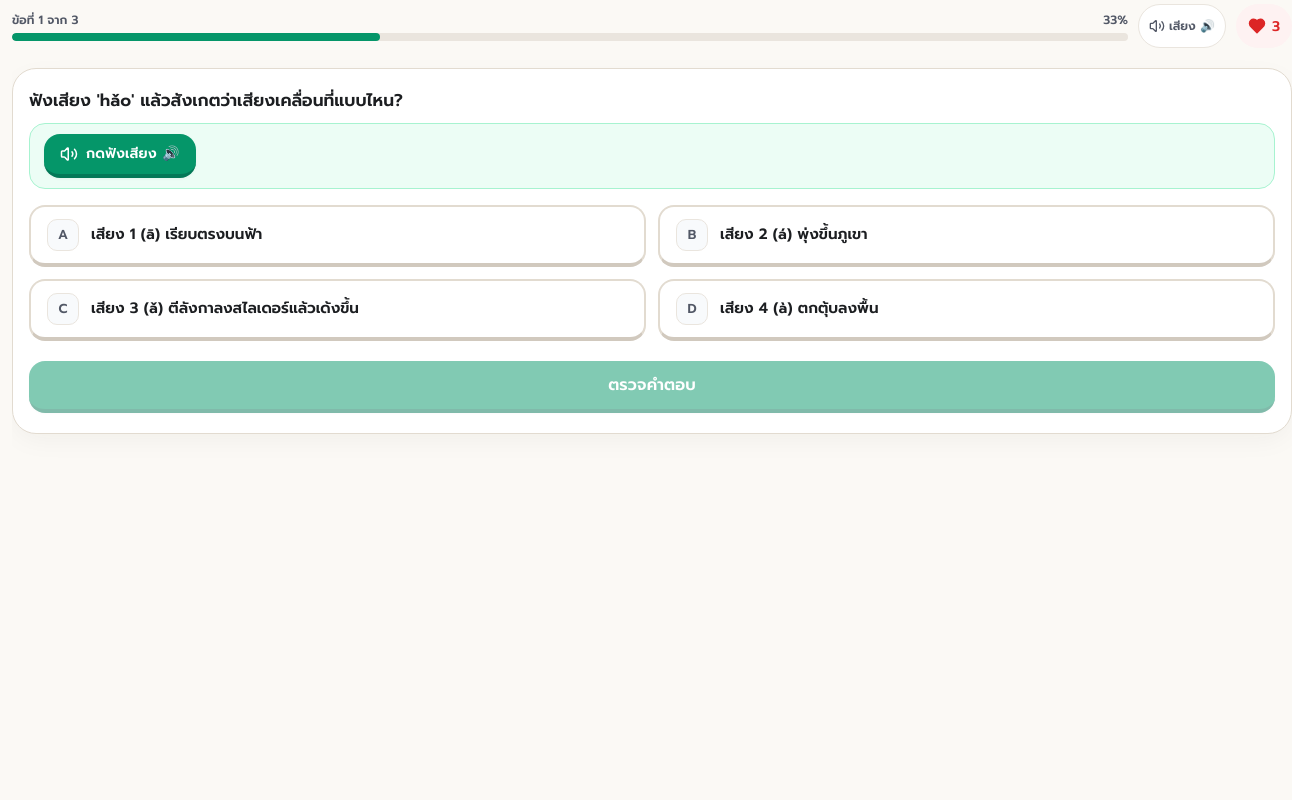
Test case: QuizContainer Component (Phase 2 Slice 2.5) › Multiple Choice Interaction › handles incorrect answer submission with heart deduction and feedback
The width and height of the screenshot is (1292, 800).
Click the radio button labelled "A เสียง 1 (ā) เรียบตรงบนฟ้า" at (63, 235), box [29,205,646,267]
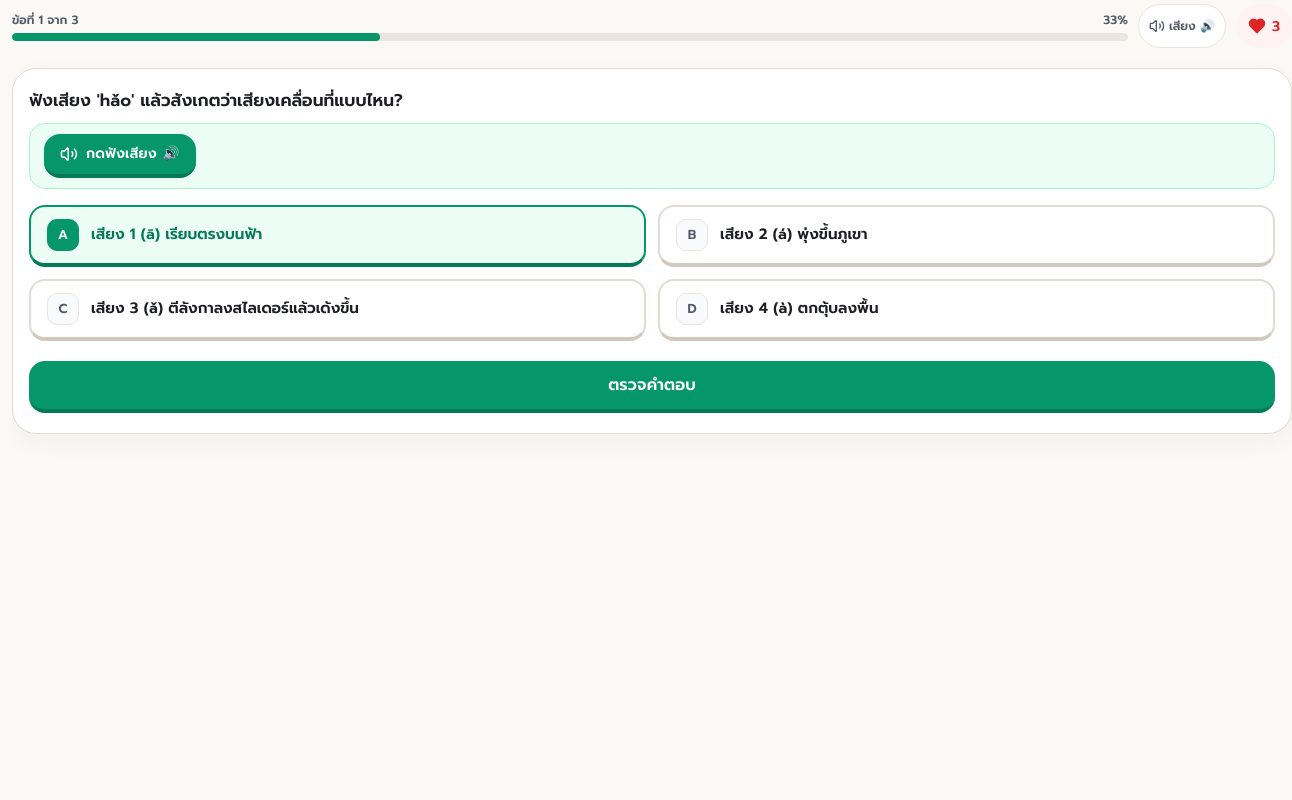
Click the button with aria-label "ตรวจคำตอบ" at (652, 387), box [29,361,1275,413]
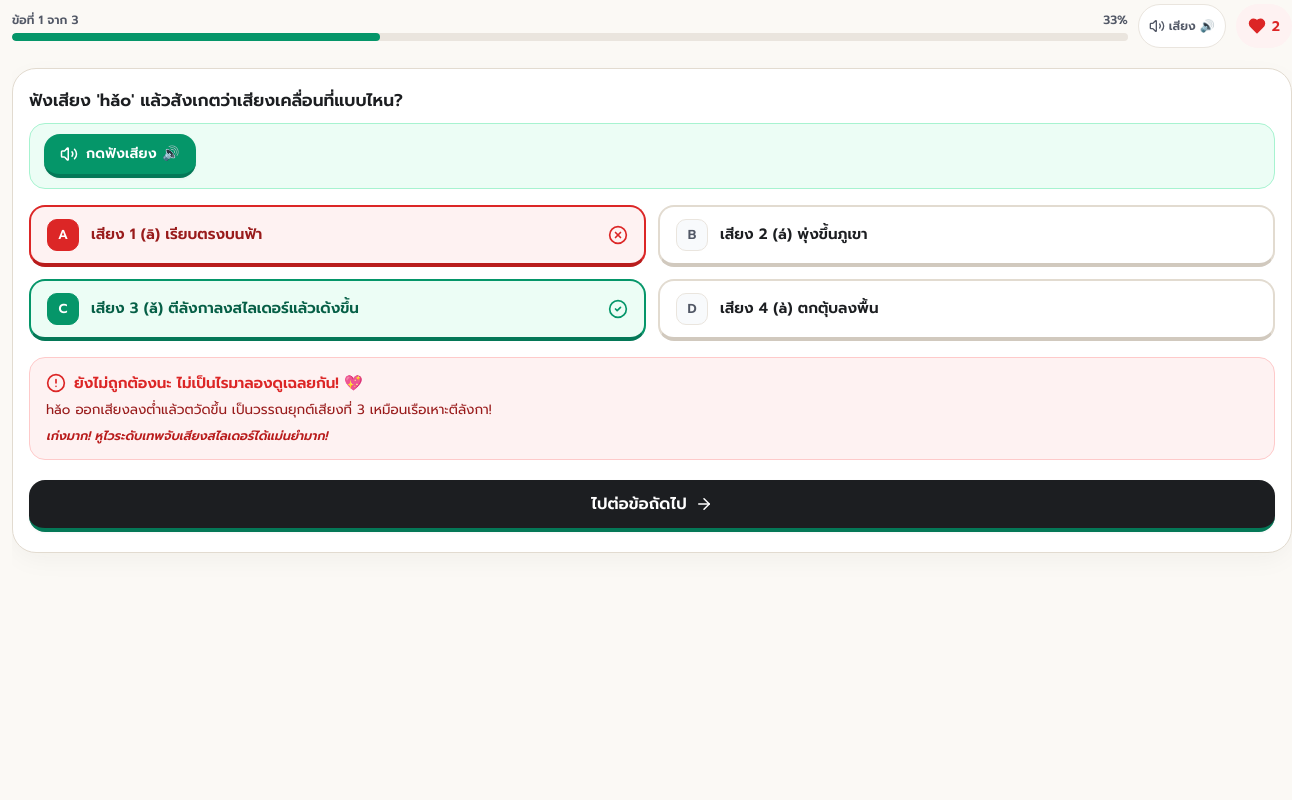
Expected: the text "2" is shown, [1272,16,1280,36]
Result: the text "ยังไม่ถูกต้องนะ" is shown at [74,372,363,394]
